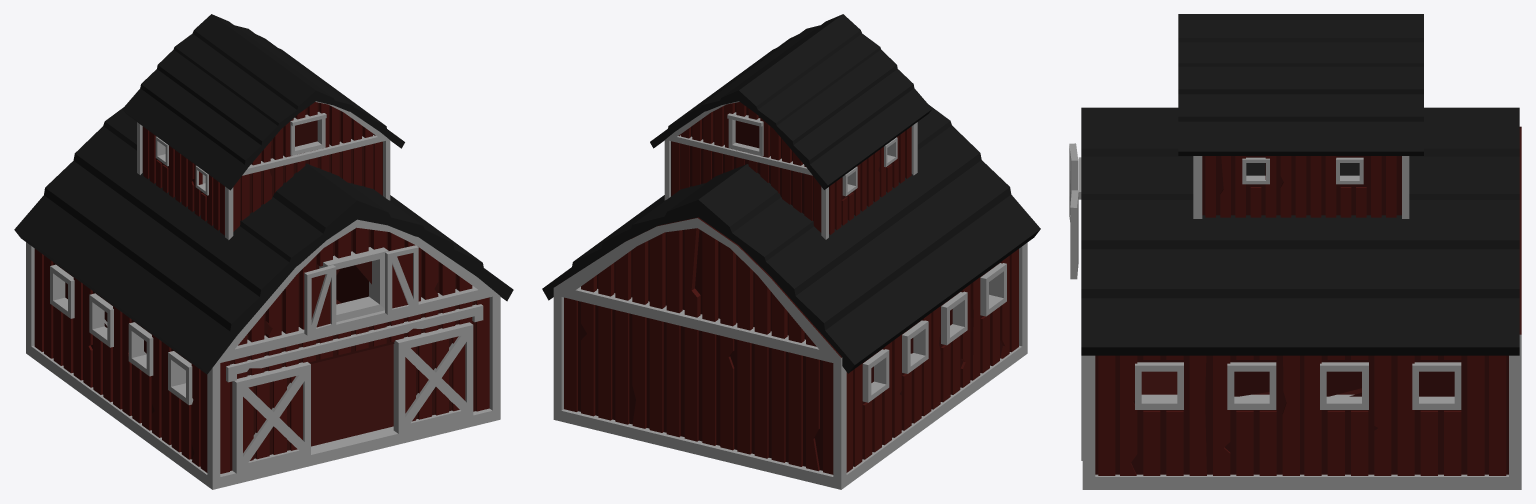
The model's file is big-barn.glb.
3 renders of one model, left to right at view 1: azimuth 30°, elevation 25°; view 2: azimuth 150°, elevation 25°; view 3: azimuth 270°, elevation 25°, orthographic. The views are drawn at different scales.
Parts seen in each view (by area): view 1: BigBarn_Cube.034, BigBarn_Door_Cube.009, BigBarn_Door2_Cube.012, BigBarn_Window_Cube.017, BigBarn_Window2_Cube.016; view 2: BigBarn_Cube.034; view 3: BigBarn_Cube.034, BigBarn_Window_Cube.017, BigBarn_Window2_Cube.016.
Part boxes in pixels (bbox=[...]): BigBarn_Cube.034: bbox=[14, 14, 513, 489]; BigBarn_Door_Cube.009: bbox=[393, 322, 473, 433]; BigBarn_Door2_Cube.012: bbox=[232, 362, 310, 473]; BigBarn_Window_Cube.017: bbox=[385, 245, 418, 314]; BigBarn_Window2_Cube.016: bbox=[304, 265, 336, 335]; BigBarn_Cube.034: bbox=[542, 14, 1040, 489]; BigBarn_Cube.034: bbox=[1078, 14, 1521, 489]; BigBarn_Window_Cube.017: bbox=[1070, 190, 1078, 279]; BigBarn_Window2_Cube.016: bbox=[1069, 143, 1078, 221].
Bounding box in the file's own units: 7.73 × 7.89 × 8.22.
